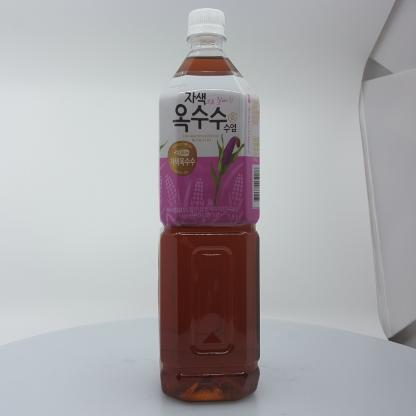----------1-5L: (158, 8, 260, 402), (360, 1, 416, 346)
